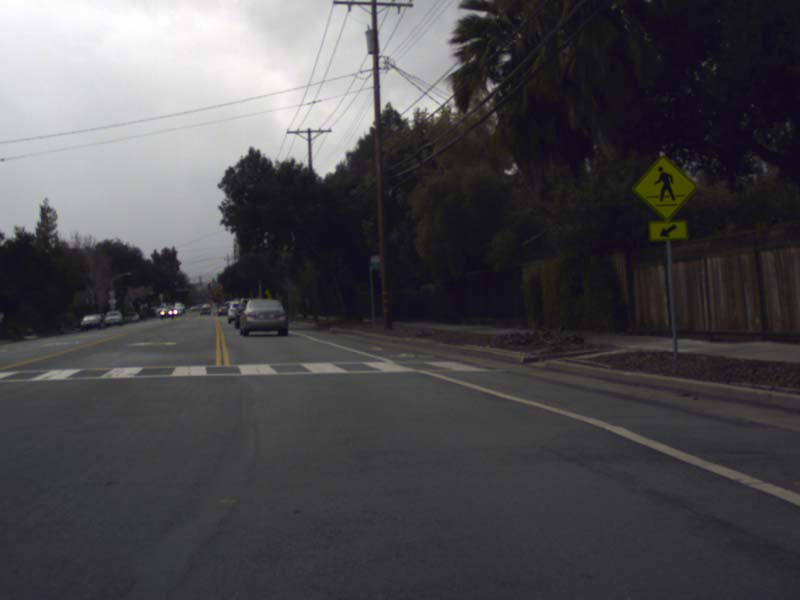Red: (207, 280, 210, 288)
